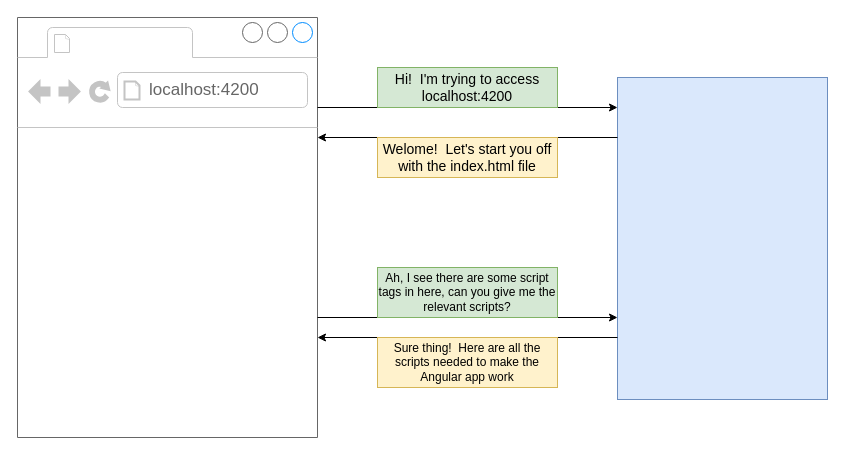
The diagram is 845 pixels wide and 455 high, and some of its shapes have lost their labels. Each missing label, with the box of its shape:
Angular Development Server: (616, 76, 828, 400)
Page 1: (76, 28, 188, 56)
